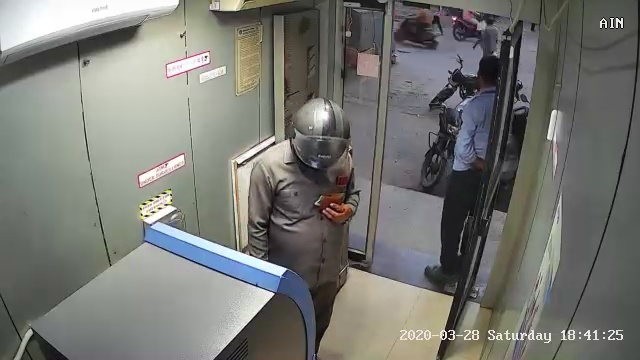helmet: (287, 98, 359, 182)
